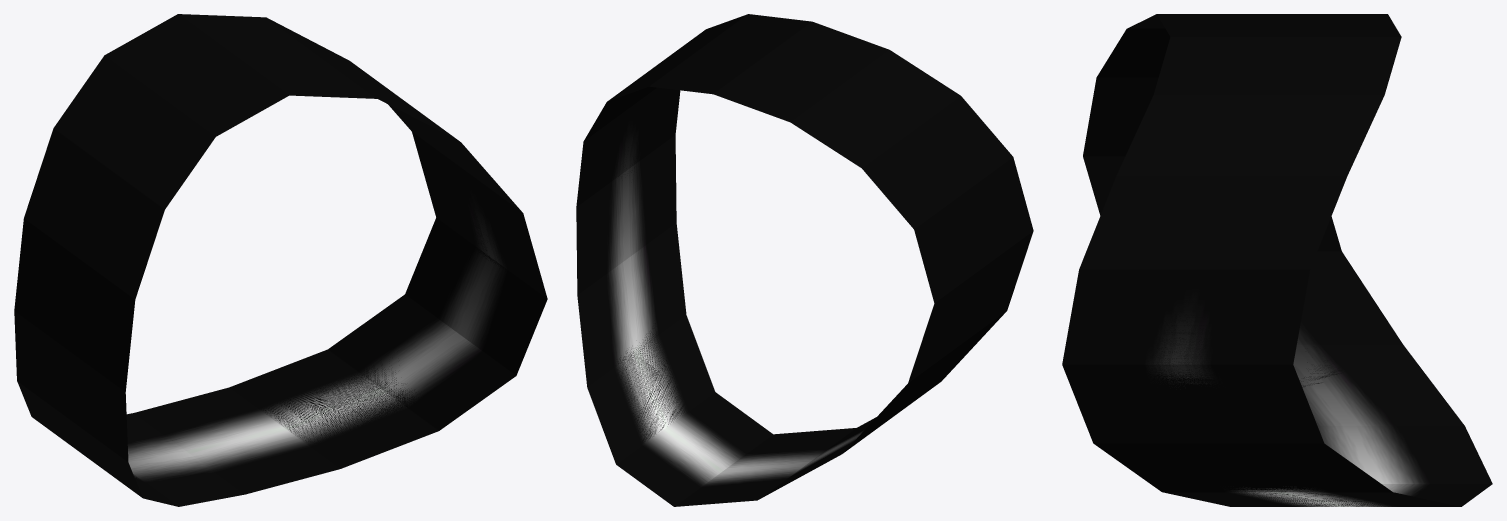
Rendered from tx_jianwugong1_fire_01.obj.
3 renders of one model, left to right at view 1: azimuth 30°, elevation 25°; view 2: azimuth 150°, elevation 25°; view 3: azimuth 270°, elevation 25°, orthographic. The views are drawn at different scales.
Visible parts, largest first — view 1: Circle02, Circle01; view 2: Circle02, Circle01; view 3: Circle02, Circle01.
Part boxes in pixels (x1,y1,x2,y2): Circle02: (14,14,547,506); Circle01: (14,14,543,503); Circle02: (576,14,1033,506); Circle01: (580,20,1033,463); Circle02: (1062,14,1492,506); Circle01: (1063,14,1456,506).
Size of the model in its own units: 54.65 by 54.65 by 47.72.
Materials: 2 (2 with a texture image).
